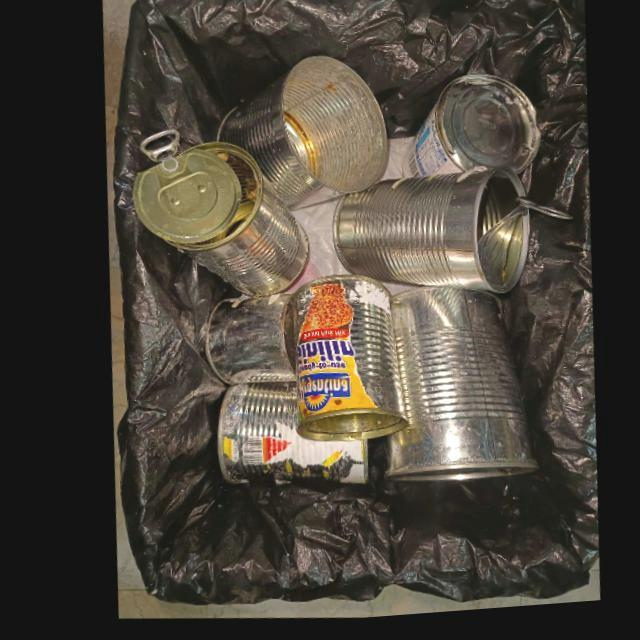aluminum: (326, 174, 568, 300), (374, 292, 528, 486), (128, 130, 303, 300), (212, 59, 386, 215), (286, 278, 399, 445), (207, 384, 358, 488), (397, 80, 537, 184), (198, 297, 288, 387)
